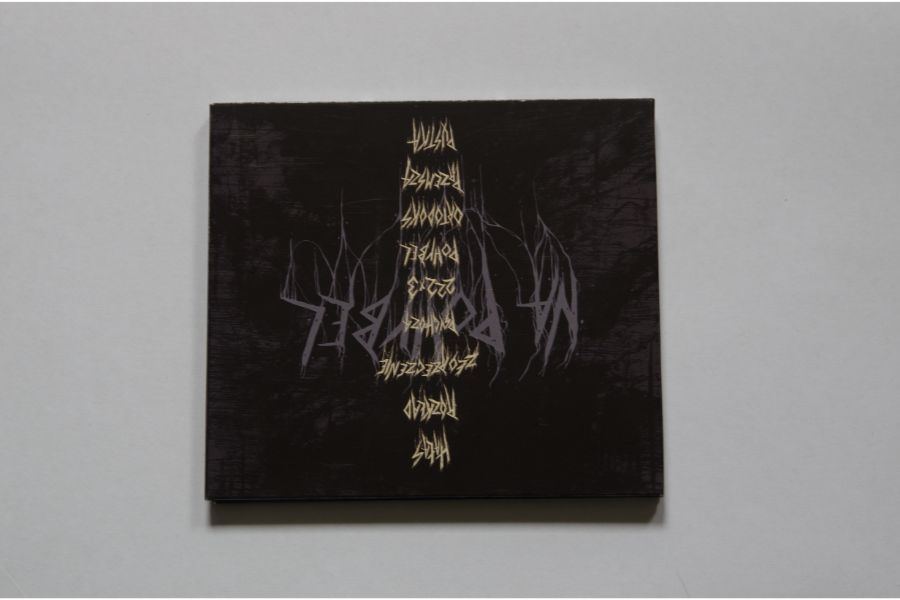album: (200, 96, 672, 506)
